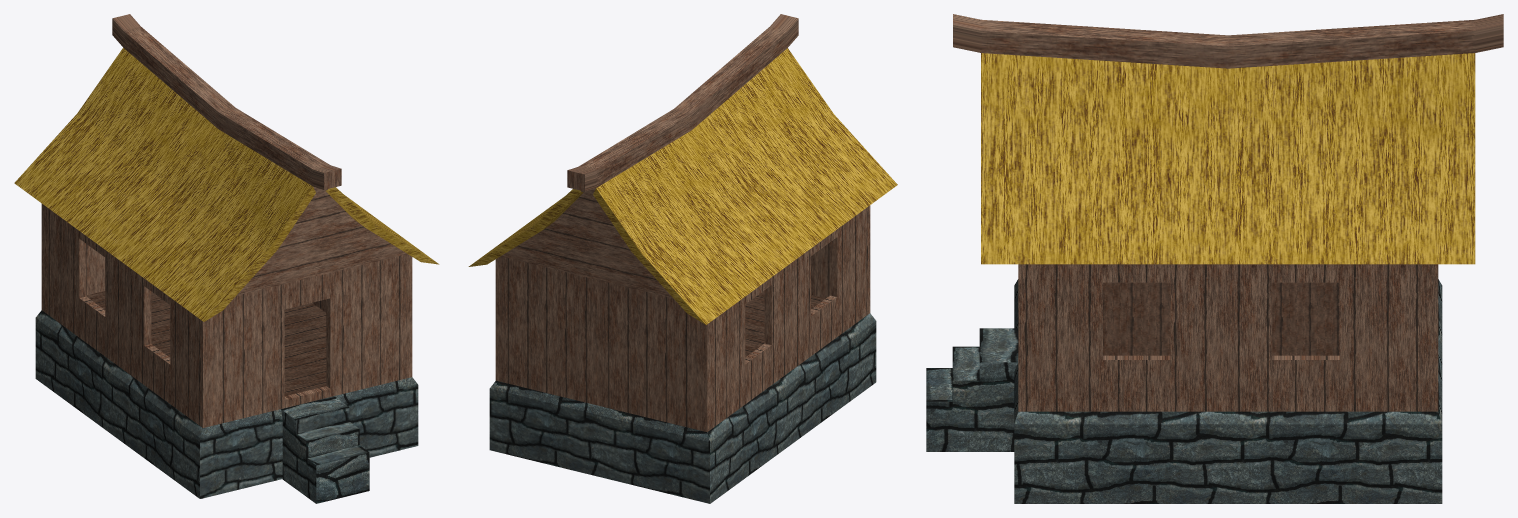
The model's file is Building_V_0_1.dae.
3 views of the same model, side by side, from view 1: azimuth 30°, elevation 25°; view 2: azimuth 150°, elevation 25°; view 3: azimuth 270°, elevation 25° (orthographic). The views are drawn at different scales.
Parts seen in each view (by area): view 1: Building; view 2: Building; view 3: Building.
Part boxes in pixels (bbox=[...]): Building: bbox=[14, 14, 439, 503]; Building: bbox=[468, 14, 897, 503]; Building: bbox=[926, 14, 1503, 503].
Bounding box in the file's own units: 5.41 × 8.81 × 7.
4 materials, 4 textured.
